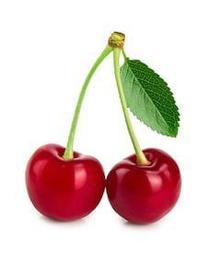cherry: (25, 144, 104, 221), (107, 149, 182, 225)
